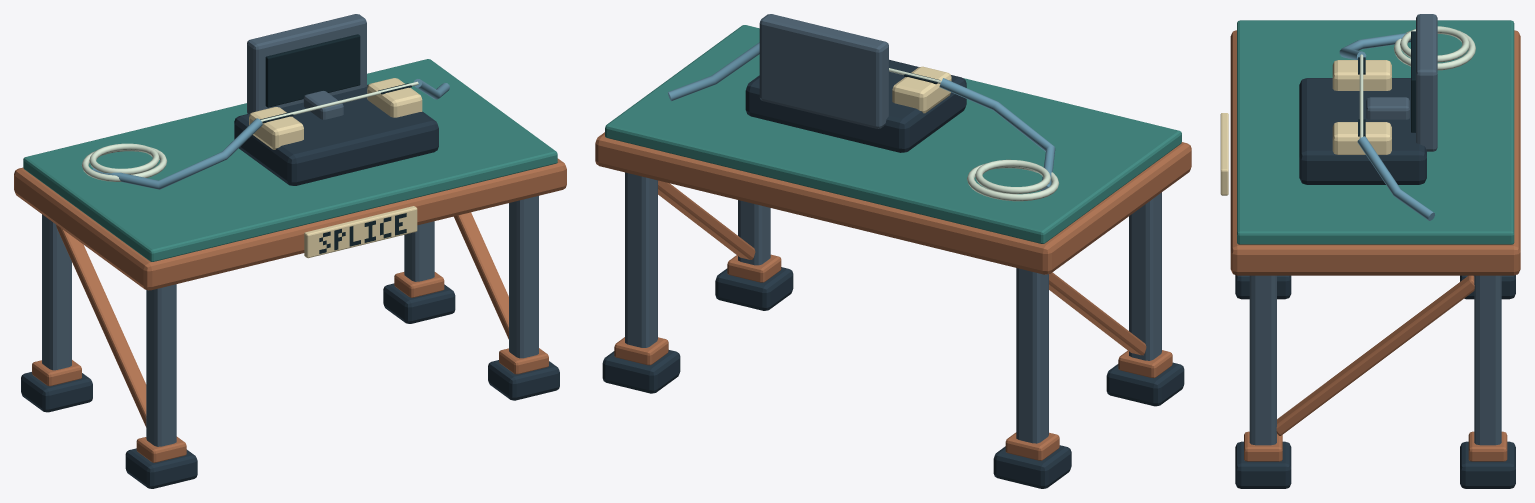
3 views of the same model, side by side, from view 1: azimuth 30°, elevation 25°; view 2: azimuth 150°, elevation 25°; view 3: azimuth 270°, elevation 25° (orthographic). The views are drawn at different scales.
Parts seen in each view (by area): view 1: PR105 enamel and hardware; view 2: PR105 enamel and hardware; view 3: PR105 enamel and hardware.
Boxes of the visible parts, left/top/right/bottom form: PR105 enamel and hardware: left=14, top=14, right=566, bottom=488; PR105 enamel and hardware: left=595, top=14, right=1191, bottom=488; PR105 enamel and hardware: left=1220, top=14, right=1520, bottom=488.
Bounding box in the file's own units: 1.44 × 1.1 × 0.8263.
